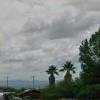Tree: (46, 21, 100, 89)
